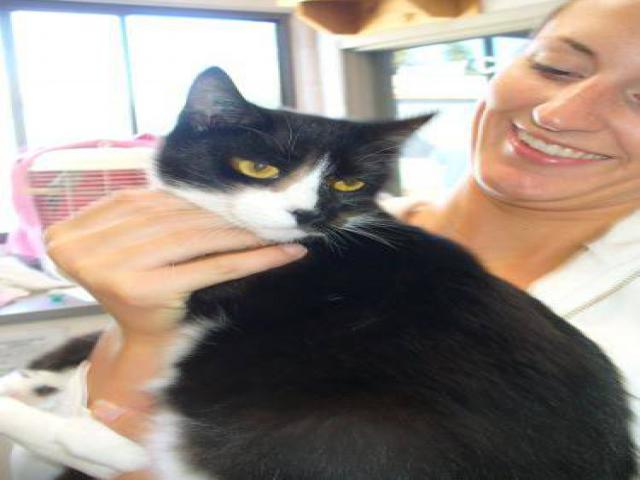cat: (74, 56, 617, 473)
